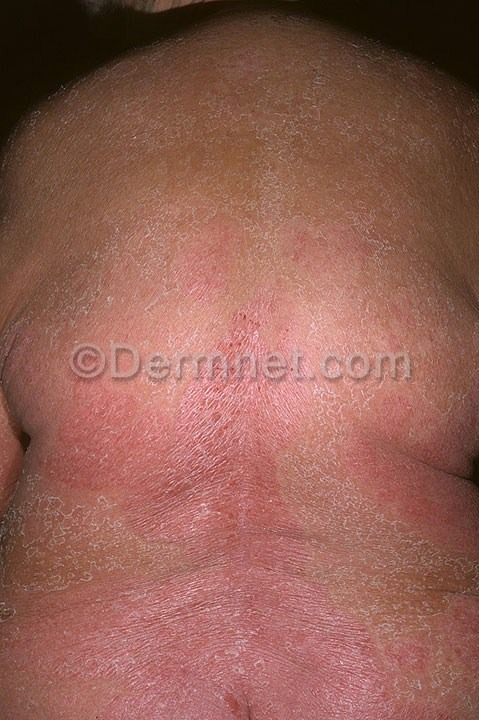Psoriasis: (62, 37, 458, 350), (247, 393, 479, 715), (7, 408, 241, 714)
